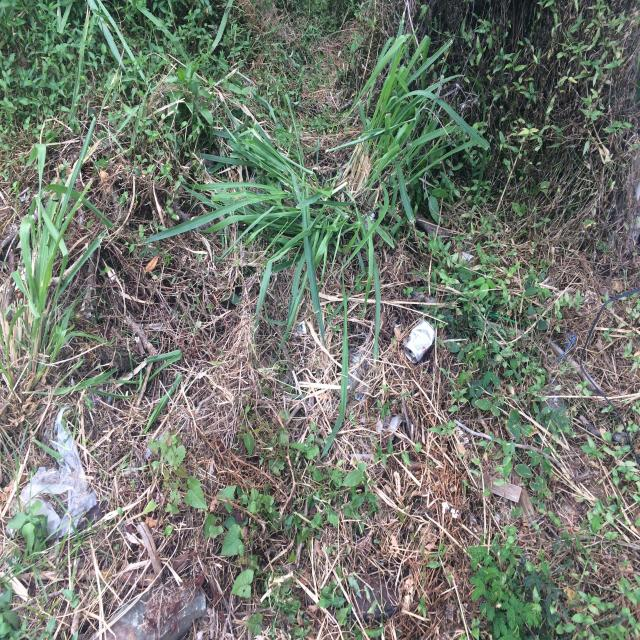litter: (17, 413, 99, 561), (86, 559, 205, 639), (396, 317, 444, 367)
